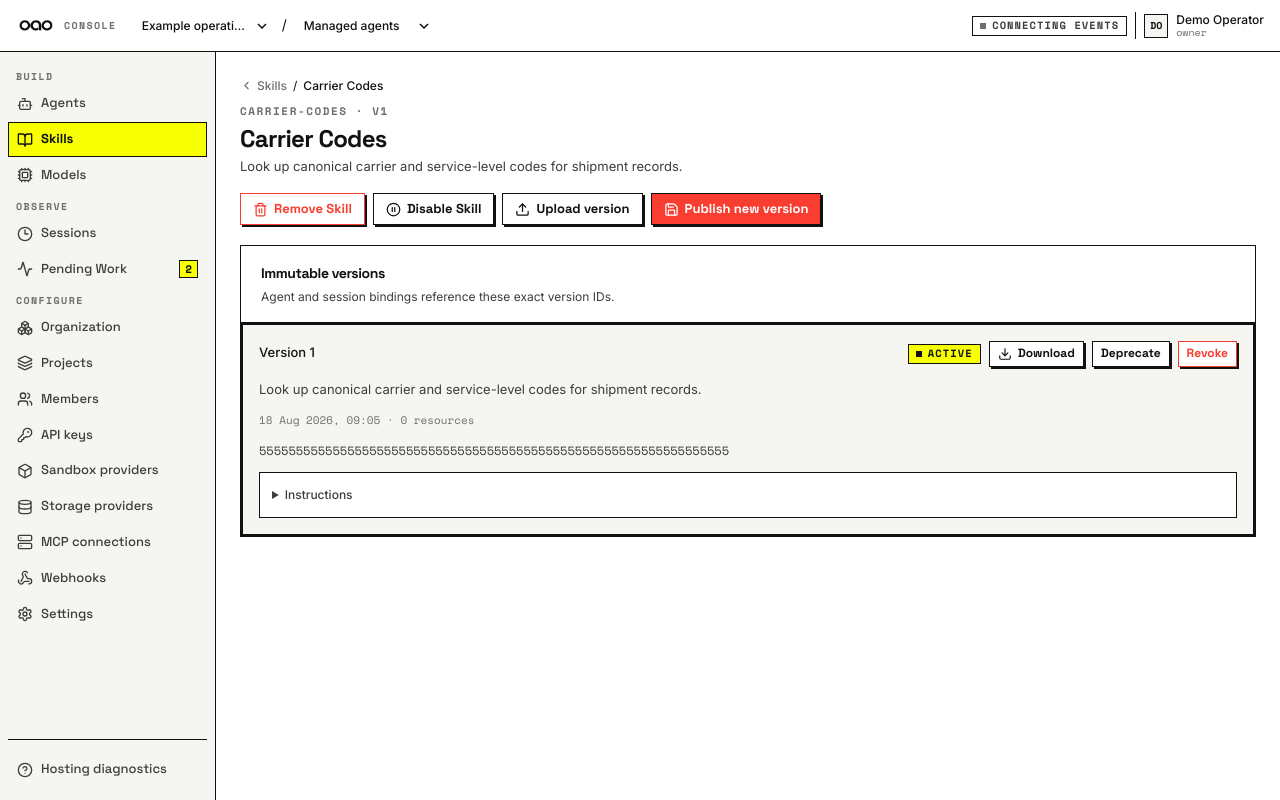
Test: management console › removes a Skill from its detail page and returns to the list
Check: the heading "Carrier Codes" is shown, box [240, 123, 387, 154]
What coordinates should you click on to do the following:
click the button "Remove Skill"
I would click on:
 (302, 209)
Its box is [240, 193, 365, 225].
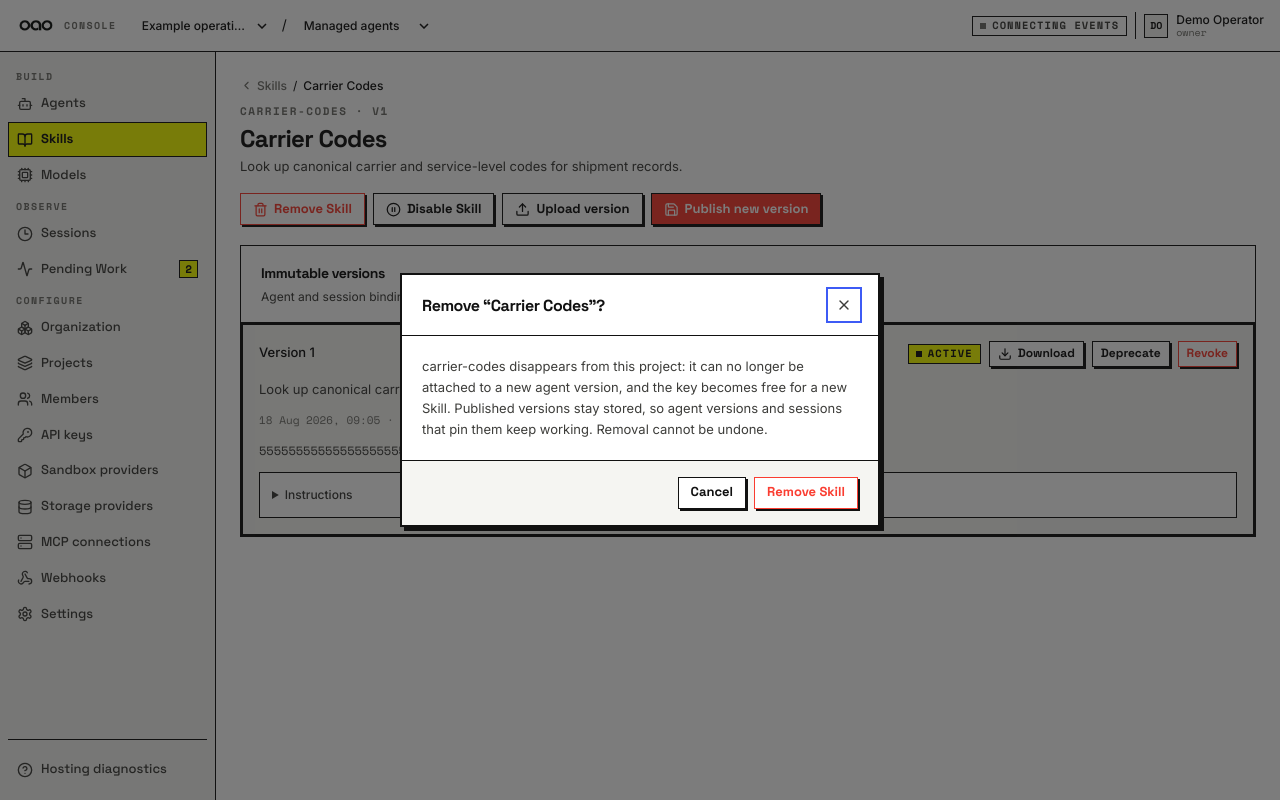
What coordinates should you click on to do the following:
click the button "Cancel"
I would click on:
 (712, 493)
Its box is [678, 477, 746, 509].
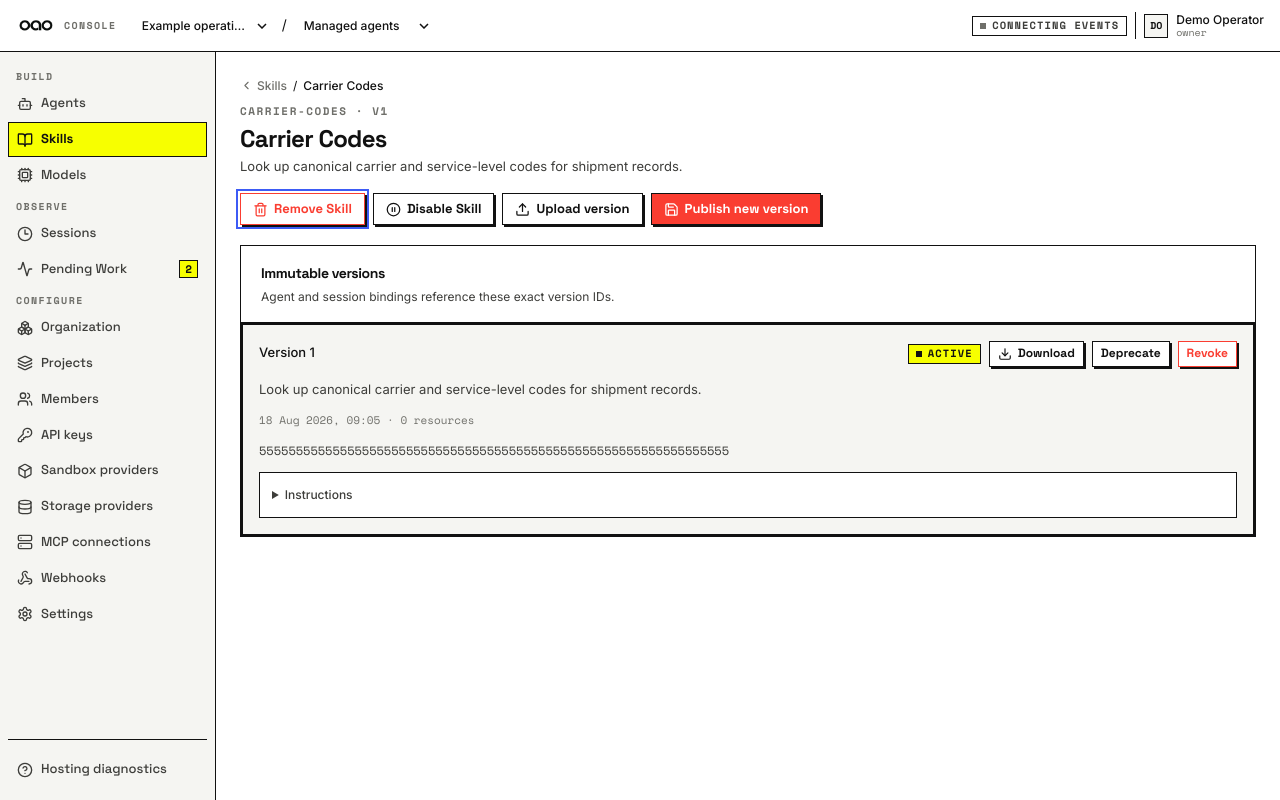
Check: the heading "Remove “Carrier Codes”?" is gone
What coordinates should you click on to do the following:
click the button "Remove Skill"
I would click on:
 (302, 209)
Its box is [240, 193, 365, 225].
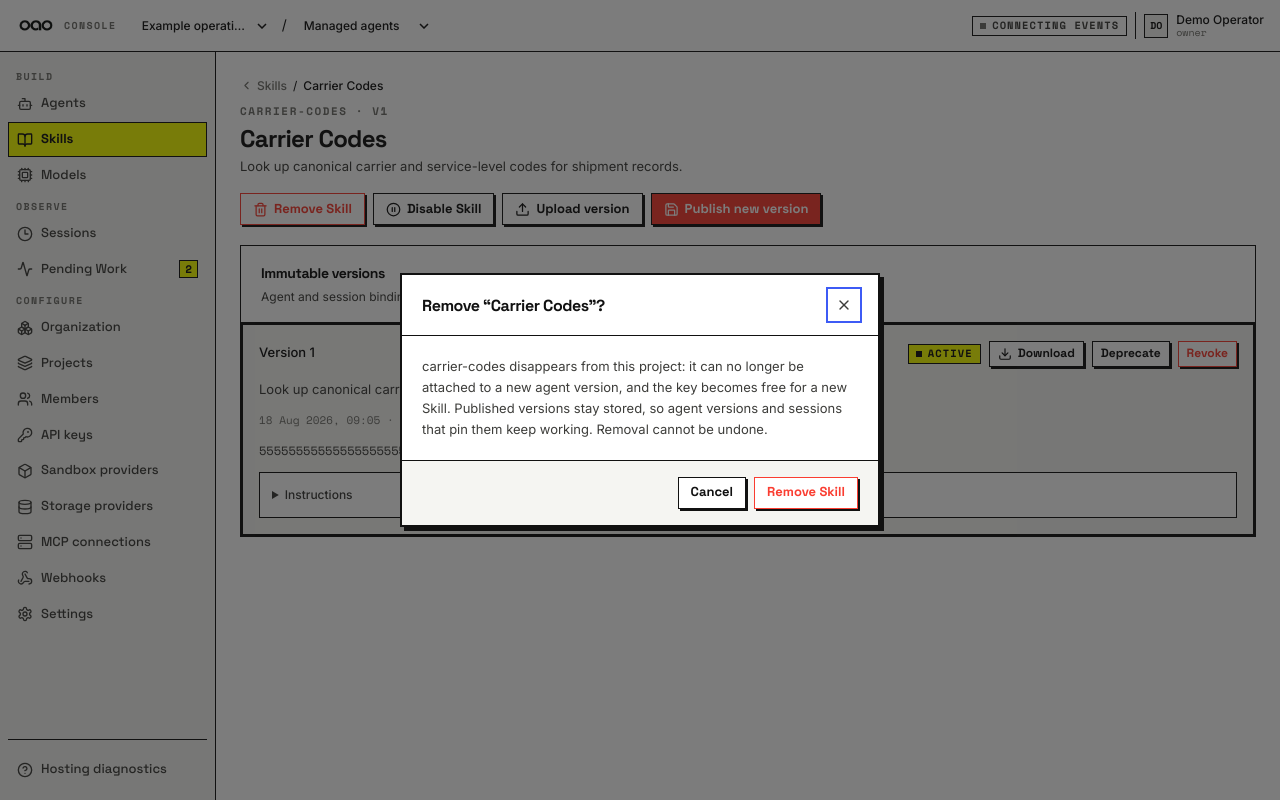
Check: the text "the key becomes free for a new Skill" is shown, box [422, 358, 847, 437]
What coordinates should you click on to do the following:
click the button "Remove Skill"
I would click on:
 (806, 493)
Its box is [754, 477, 858, 509].
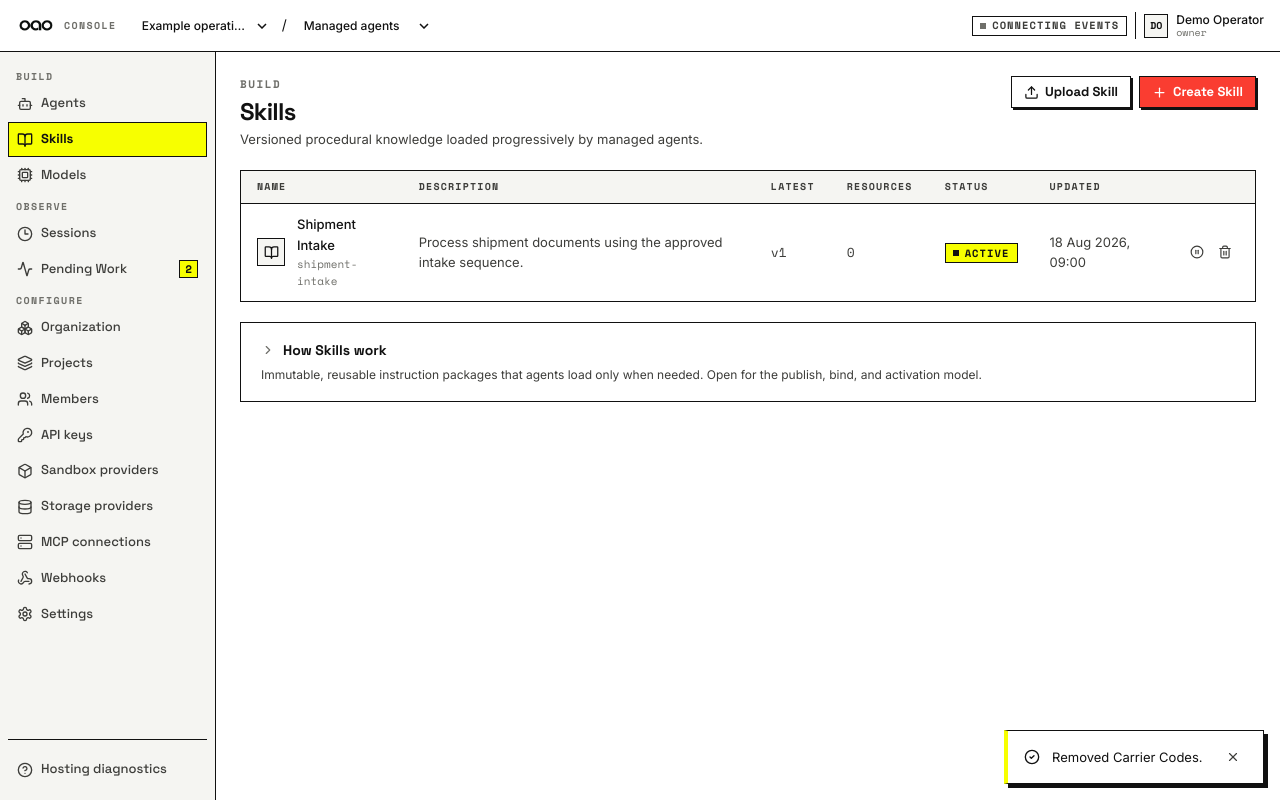
Check: the heading "Skills" is shown, box [240, 96, 296, 127]
Check: the text "Shipment Intake" is shown, box [297, 216, 356, 253]
